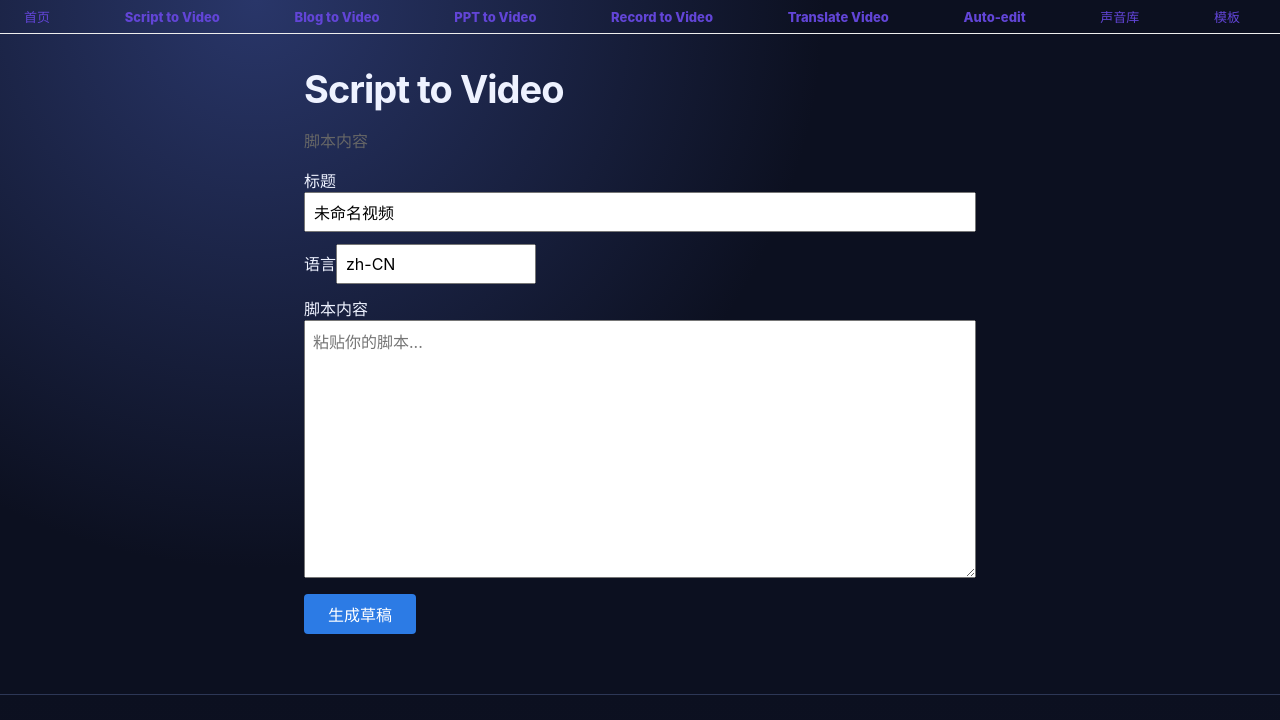
Test: WorkflowPage R25 (rev41) - text mode › valid submit -> POST endpoint + 成功块显示草稿 ID
Type "Hello world" into the text box labelled "脚本内容". click: {"x": 640, "y": 449}
box: 304,320 -> 976,578
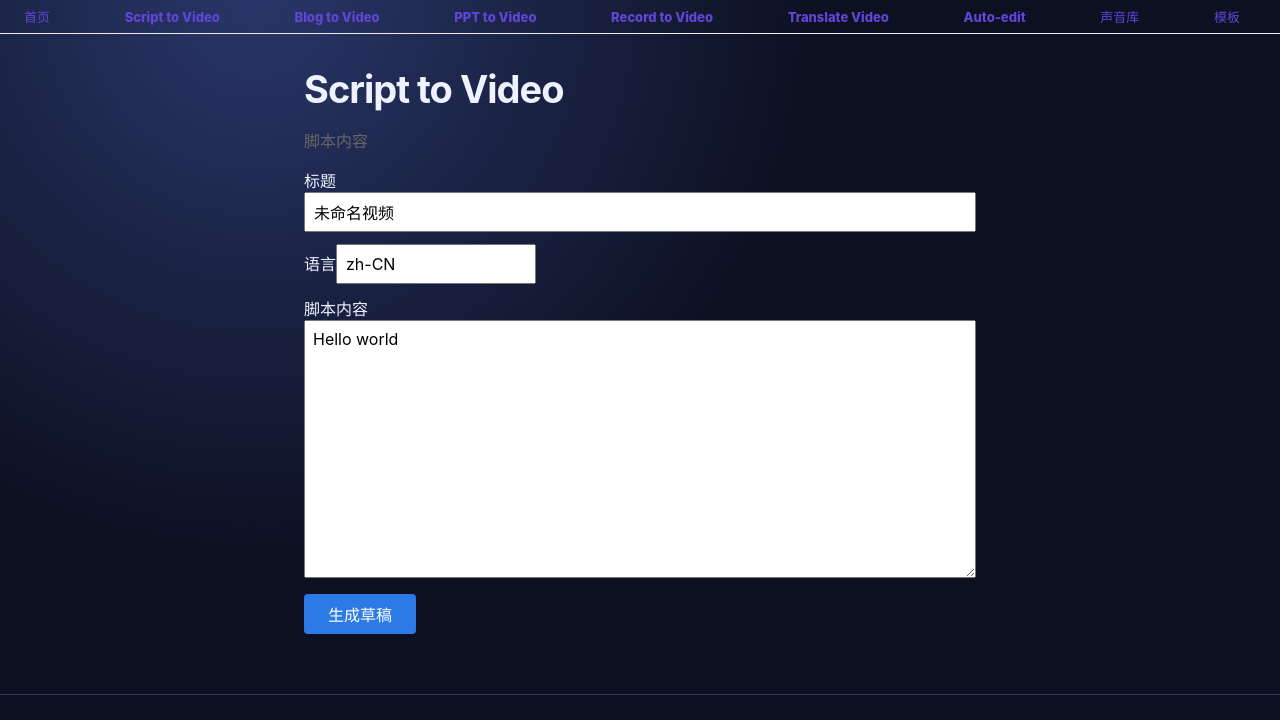
Submit the form, box 304,168 -> 976,634
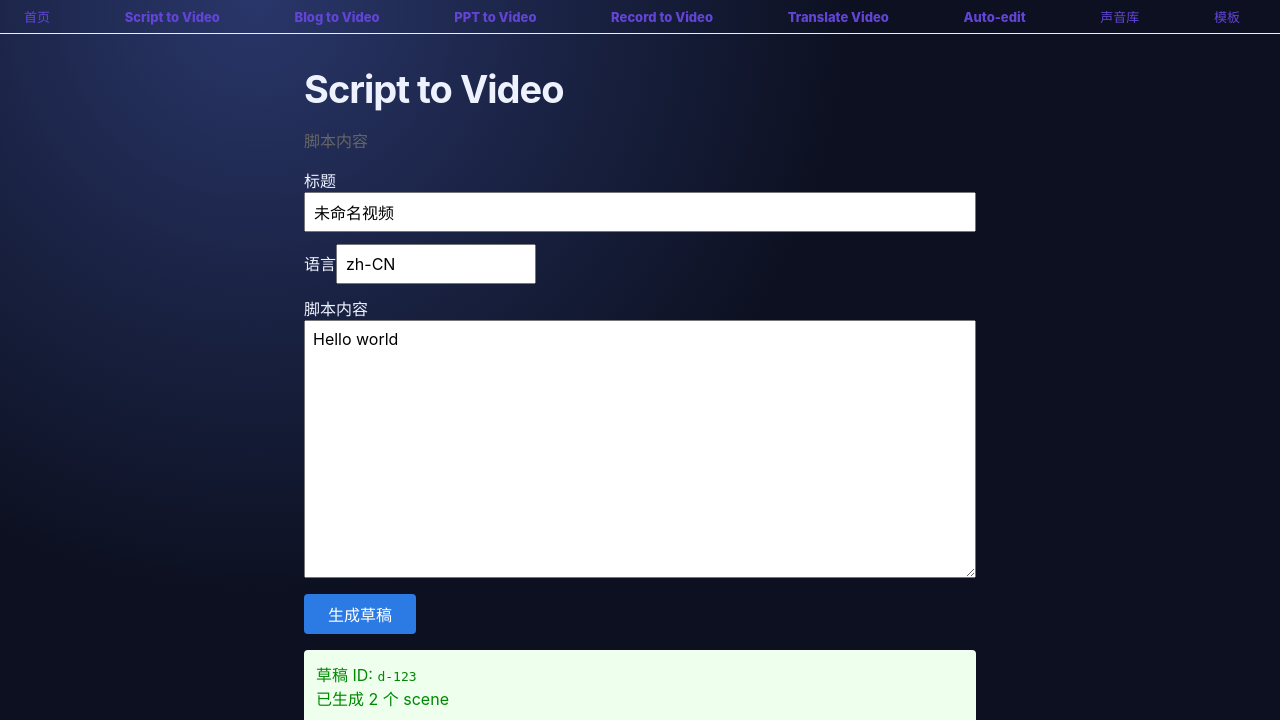
Expected: the text "d-123" is shown, 378,669 -> 417,684
Expected: the text "已生成 2 个 scene" is shown, 316,689 -> 449,709
